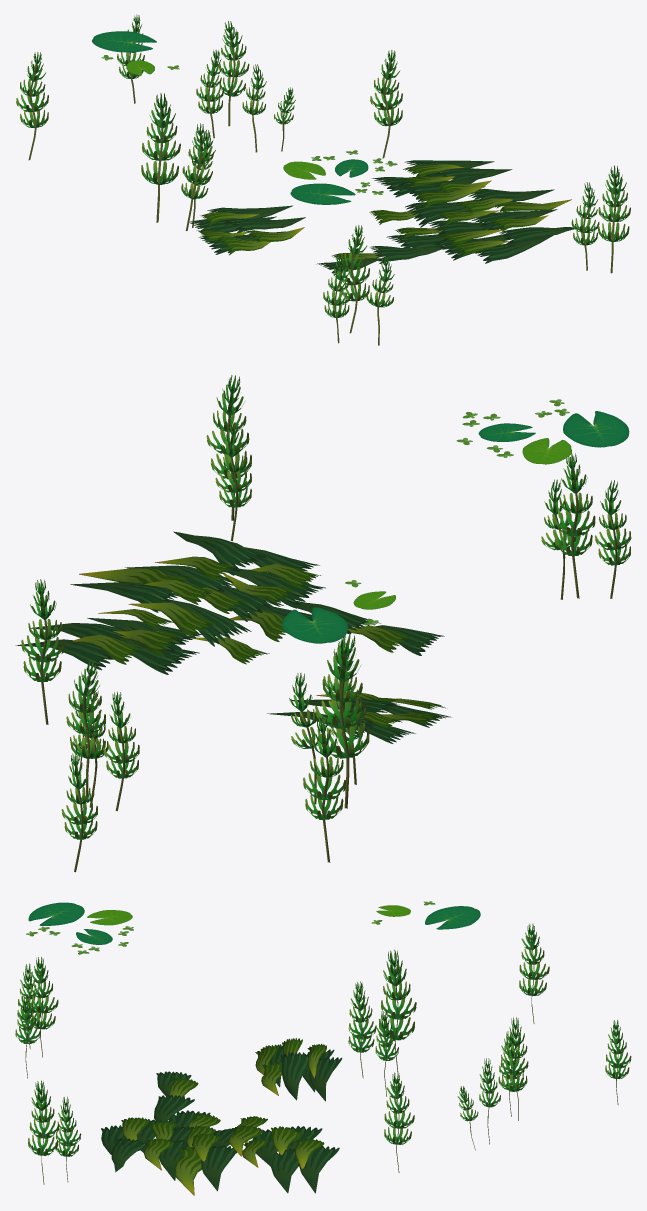
File: lily-plants.glb
3 views of the same model, one above another, from view 1: azimuth 30°, elevation 25°; view 2: azimuth 150°, elevation 25°; view 3: azimuth 270°, elevation 25° (orthographic). The views are drawn at different scales.
Bounding box in the file's own units: 49.98 × 21.51 × 73.47.
Materials: 1 (1 with a texture image).
